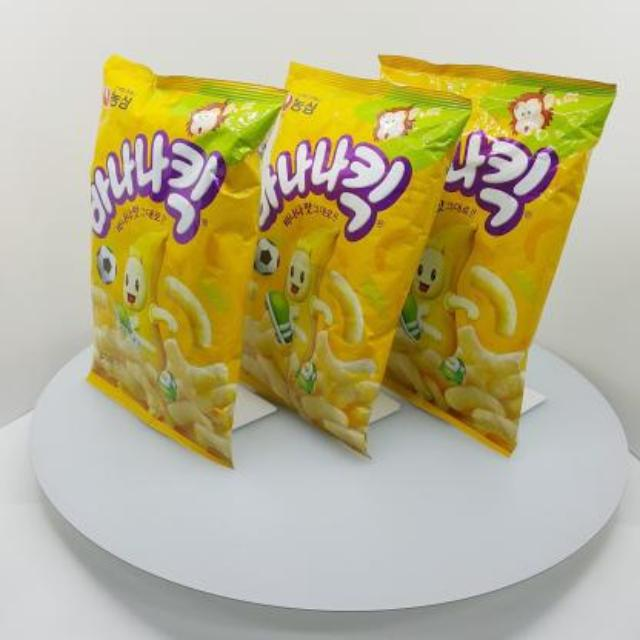snack_bag: (73, 44, 623, 476)
